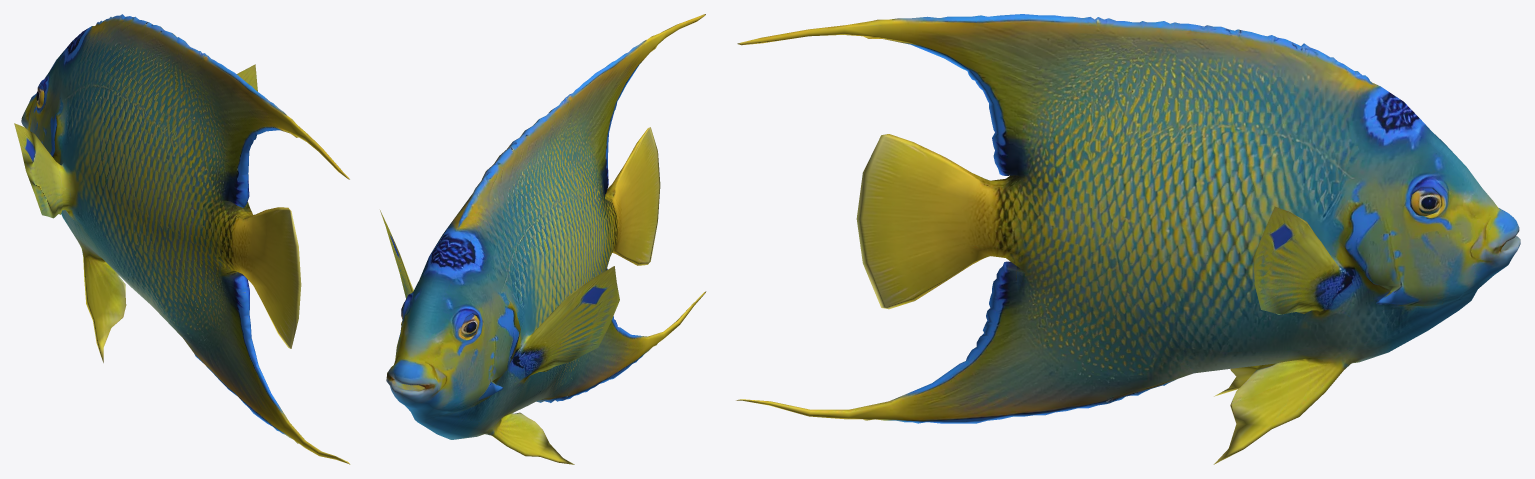
The model's file is koningin_keizer.glb.
3 views of the same model, side by side, from view 1: azimuth 30°, elevation 25°; view 2: azimuth 150°, elevation 25°; view 3: azimuth 270°, elevation 25° (orthographic). The views are drawn at different scales.
Parts seen in each view (by area): view 1: tripo_node_4d398780-edf8-4719-aec9-606fed8b5004; view 2: tripo_node_4d398780-edf8-4719-aec9-606fed8b5004; view 3: tripo_node_4d398780-edf8-4719-aec9-606fed8b5004.
Boxes of the visible parts, x1,y1,x2,y2 form: tripo_node_4d398780-edf8-4719-aec9-606fed8b5004: (14,14,350,464); tripo_node_4d398780-edf8-4719-aec9-606fed8b5004: (380,14,706,464); tripo_node_4d398780-edf8-4719-aec9-606fed8b5004: (736,14,1520,464).
Bounding box in the file's own units: 0.1898 × 0.25 × 0.4273.
Materials: 1 (1 with a texture image).
